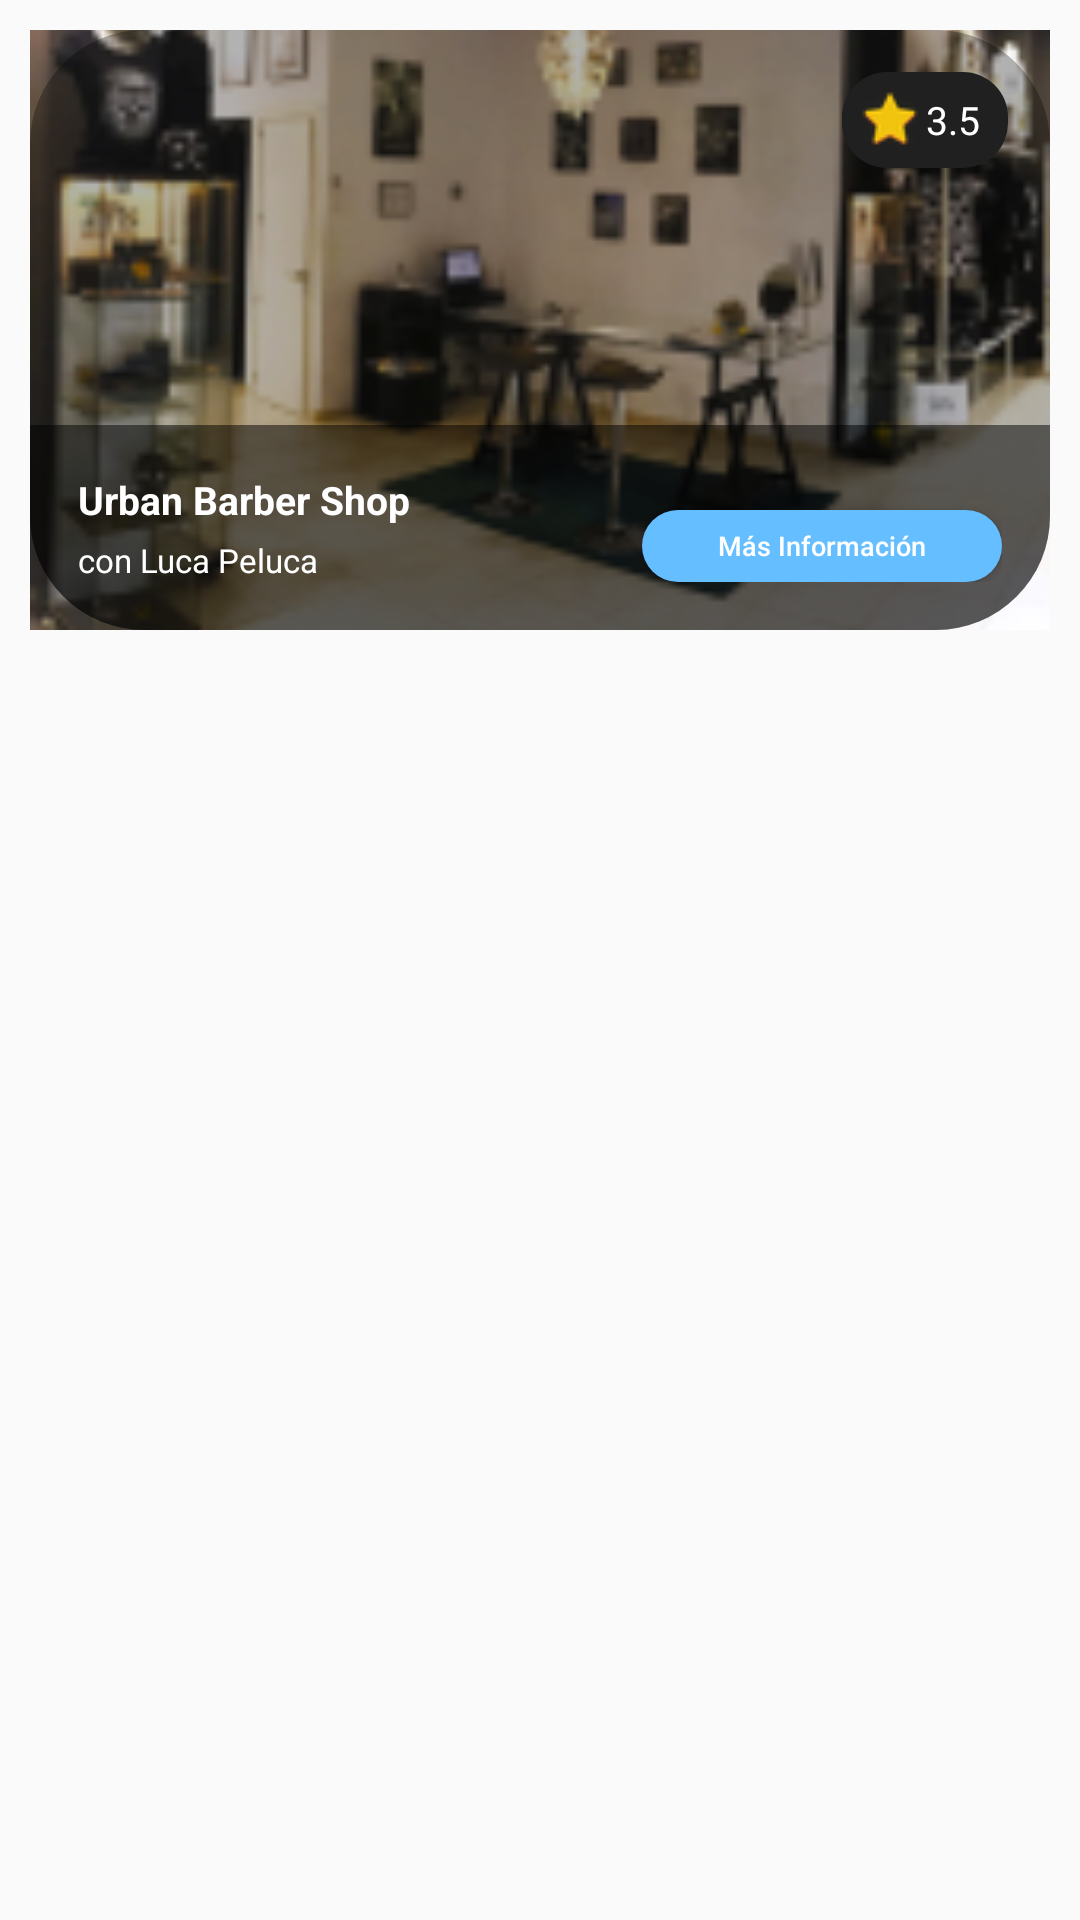

Icon bounding boxes for this 1080×1920 phone screenshot, format (left=x1, top=y1, right=x2, bottom=y2):
estrella: (left=863, top=92, right=917, bottom=145)
